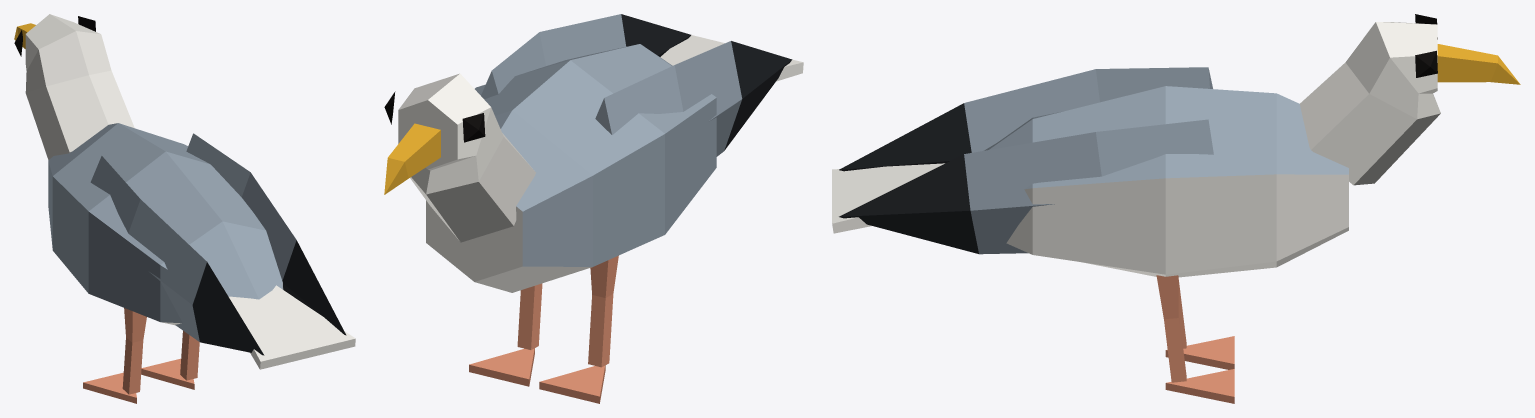
File: seagull_perched.glb
3 views of the same model, side by side, from view 1: azimuth 30°, elevation 25°; view 2: azimuth 150°, elevation 25°; view 3: azimuth 270°, elevation 25° (orthographic). The views are drawn at different scales.
Parts seen in each view (by area): view 1: Body, Head, Wing_L, Tail, Wing_R, Leg_L, Leg_R; view 2: Body, Head, Wing_L, Wing_R, Leg_L, Leg_R, Tail; view 3: Body, Wing_R, Head, Wing_L, Leg_R, Tail, Leg_L.
Part boxes in pixels (left/top/right/bottom): Body: left=48, top=123, right=282, bottom=325; Head: left=14, top=14, right=134, bottom=159; Wing_L: left=90, top=156, right=264, bottom=355; Tail: left=228, top=285, right=355, bottom=369; Wing_R: left=186, top=133, right=346, bottom=335; Leg_L: left=83, top=308, right=146, bottom=403; Leg_R: left=141, top=331, right=199, bottom=389; Body: left=426, top=44, right=716, bottom=292; Head: left=384, top=73, right=535, bottom=242; Wing_L: left=595, top=41, right=792, bottom=156; Wing_R: left=481, top=14, right=690, bottom=99; Leg_L: left=539, top=255, right=618, bottom=403; Leg_R: left=469, top=283, right=542, bottom=386; Tail: left=660, top=35, right=803, bottom=81; Body: left=984, top=86, right=1348, bottom=277; Wing_R: left=839, top=119, right=1213, bottom=254; Head: left=1300, top=14, right=1520, bottom=185; Wing_L: left=839, top=67, right=1212, bottom=171; Leg_R: left=1156, top=275, right=1234, bottom=403; Tail: left=832, top=163, right=944, bottom=233; Leg_L: left=1165, top=280, right=1234, bottom=369.
Bounding box in the file's own units: 0.1354 × 0.2518 × 0.4469.
